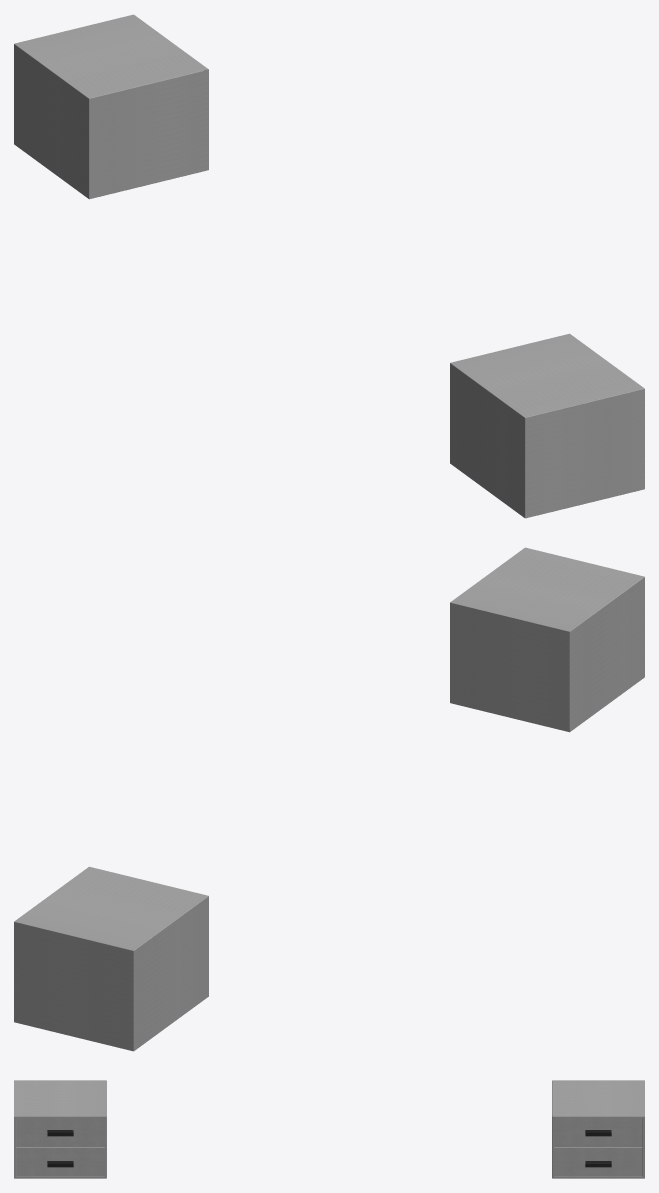
Rendered from TableBasses.fbx.
The picture shows the model from 3 angles, top to bottom: view 1: azimuth 30°, elevation 25°; view 2: azimuth 150°, elevation 25°; view 3: azimuth 270°, elevation 25°; orthographic projection. The views are drawn at different scales.
Visible parts, largest first — view 1: TableBasseDroite, TableBasseDroite.001; view 2: TableBasseDroite, TableBasseDroite.001; view 3: TableBasseDroite, TableBasseDroite.001, TiroirTableBasseDroit, TiroirTableBasseDroit.001, TiroirTableBasseGauche, TiroirTableBasseGauche.001.
Part boxes in pixels (x1,y1,x2,y2): TableBasseDroite: (14, 14, 208, 199); TableBasseDroite.001: (450, 333, 644, 518); TableBasseDroite: (14, 866, 208, 1051); TableBasseDroite.001: (450, 547, 644, 732); TableBasseDroite: (552, 1080, 644, 1178); TableBasseDroite.001: (14, 1080, 106, 1178); TiroirTableBasseDroit: (554, 1118, 642, 1147); TiroirTableBasseDroit.001: (554, 1147, 642, 1176); TiroirTableBasseGauche: (16, 1147, 104, 1176); TiroirTableBasseGauche.001: (16, 1118, 104, 1147).
Size of the model in its own units: 55.49 by 42 by 386.
1 material, 1 textured.
